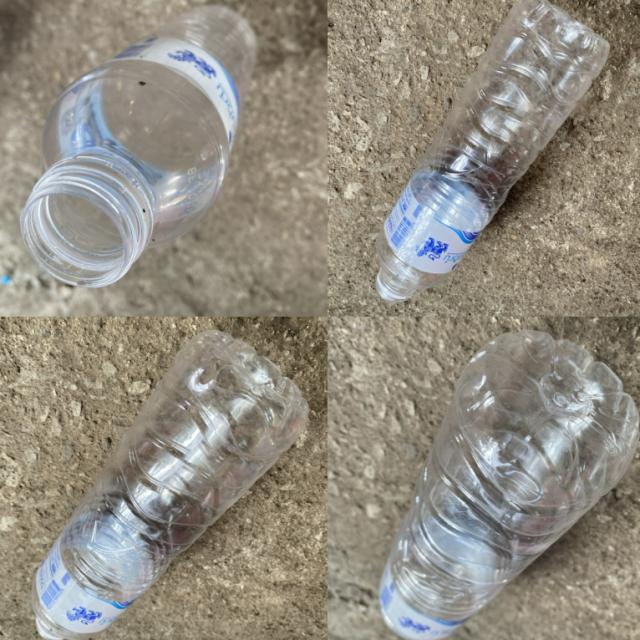plastik: (31, 330, 308, 640), (380, 330, 640, 640), (376, 0, 610, 302), (21, 5, 257, 287)
